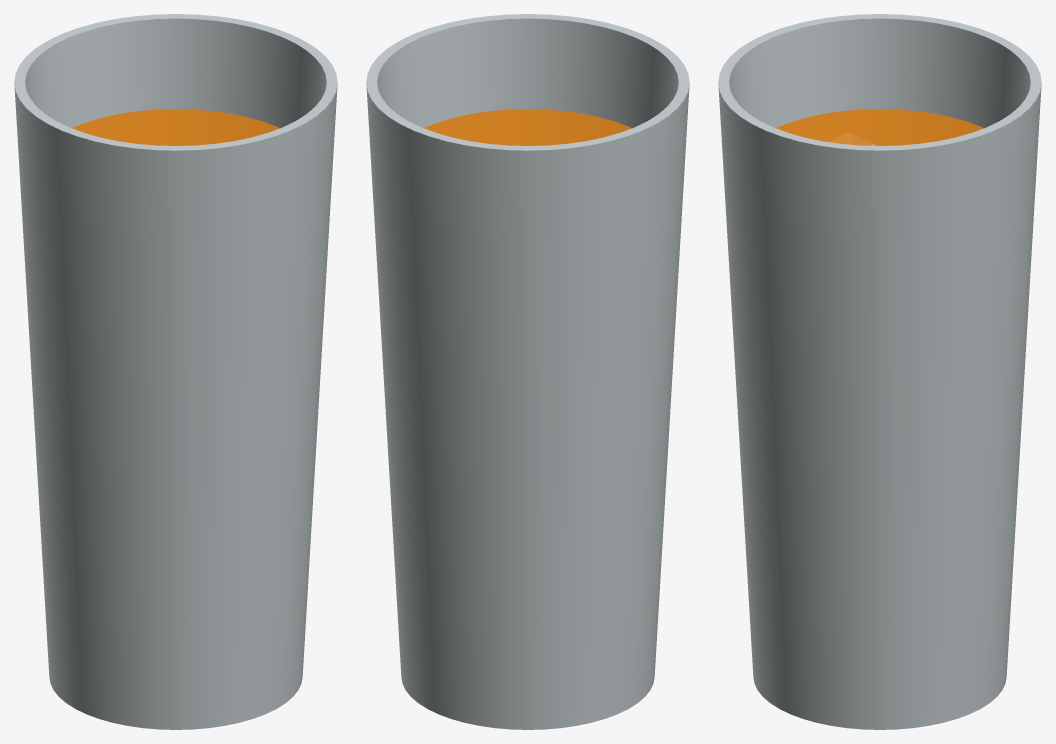
Rendered from copo_suco-laranja.glb.
3 views of the same model, side by side, from view 1: azimuth 30°, elevation 25°; view 2: azimuth 150°, elevation 25°; view 3: azimuth 270°, elevation 25° (orthographic).
Parts seen in each view (by area): view 1: copo_suco-laranja; view 2: copo_suco-laranja; view 3: copo_suco-laranja.
Boxes of the visible parts, x1,y1,x2,y2 form: copo_suco-laranja: [14, 14, 337, 729]; copo_suco-laranja: [366, 14, 689, 729]; copo_suco-laranja: [718, 14, 1041, 729].
Size of the model in its own units: 0.074 by 0.15 by 0.074.
